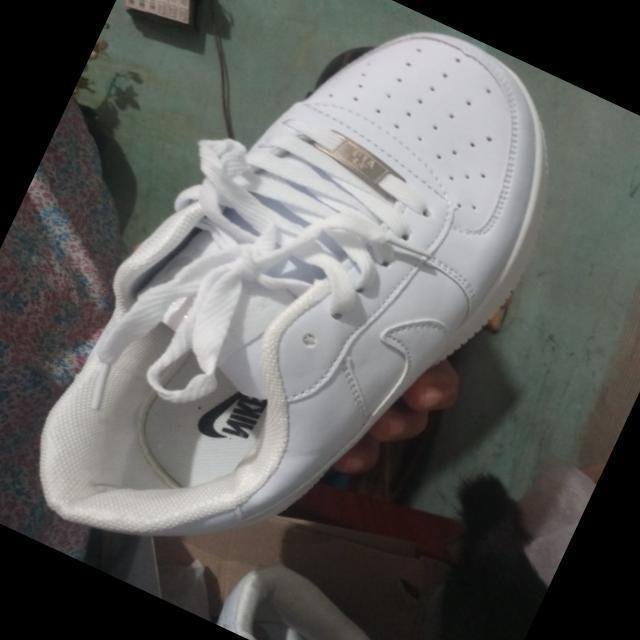nike fake air force: (2, 0, 618, 640)
